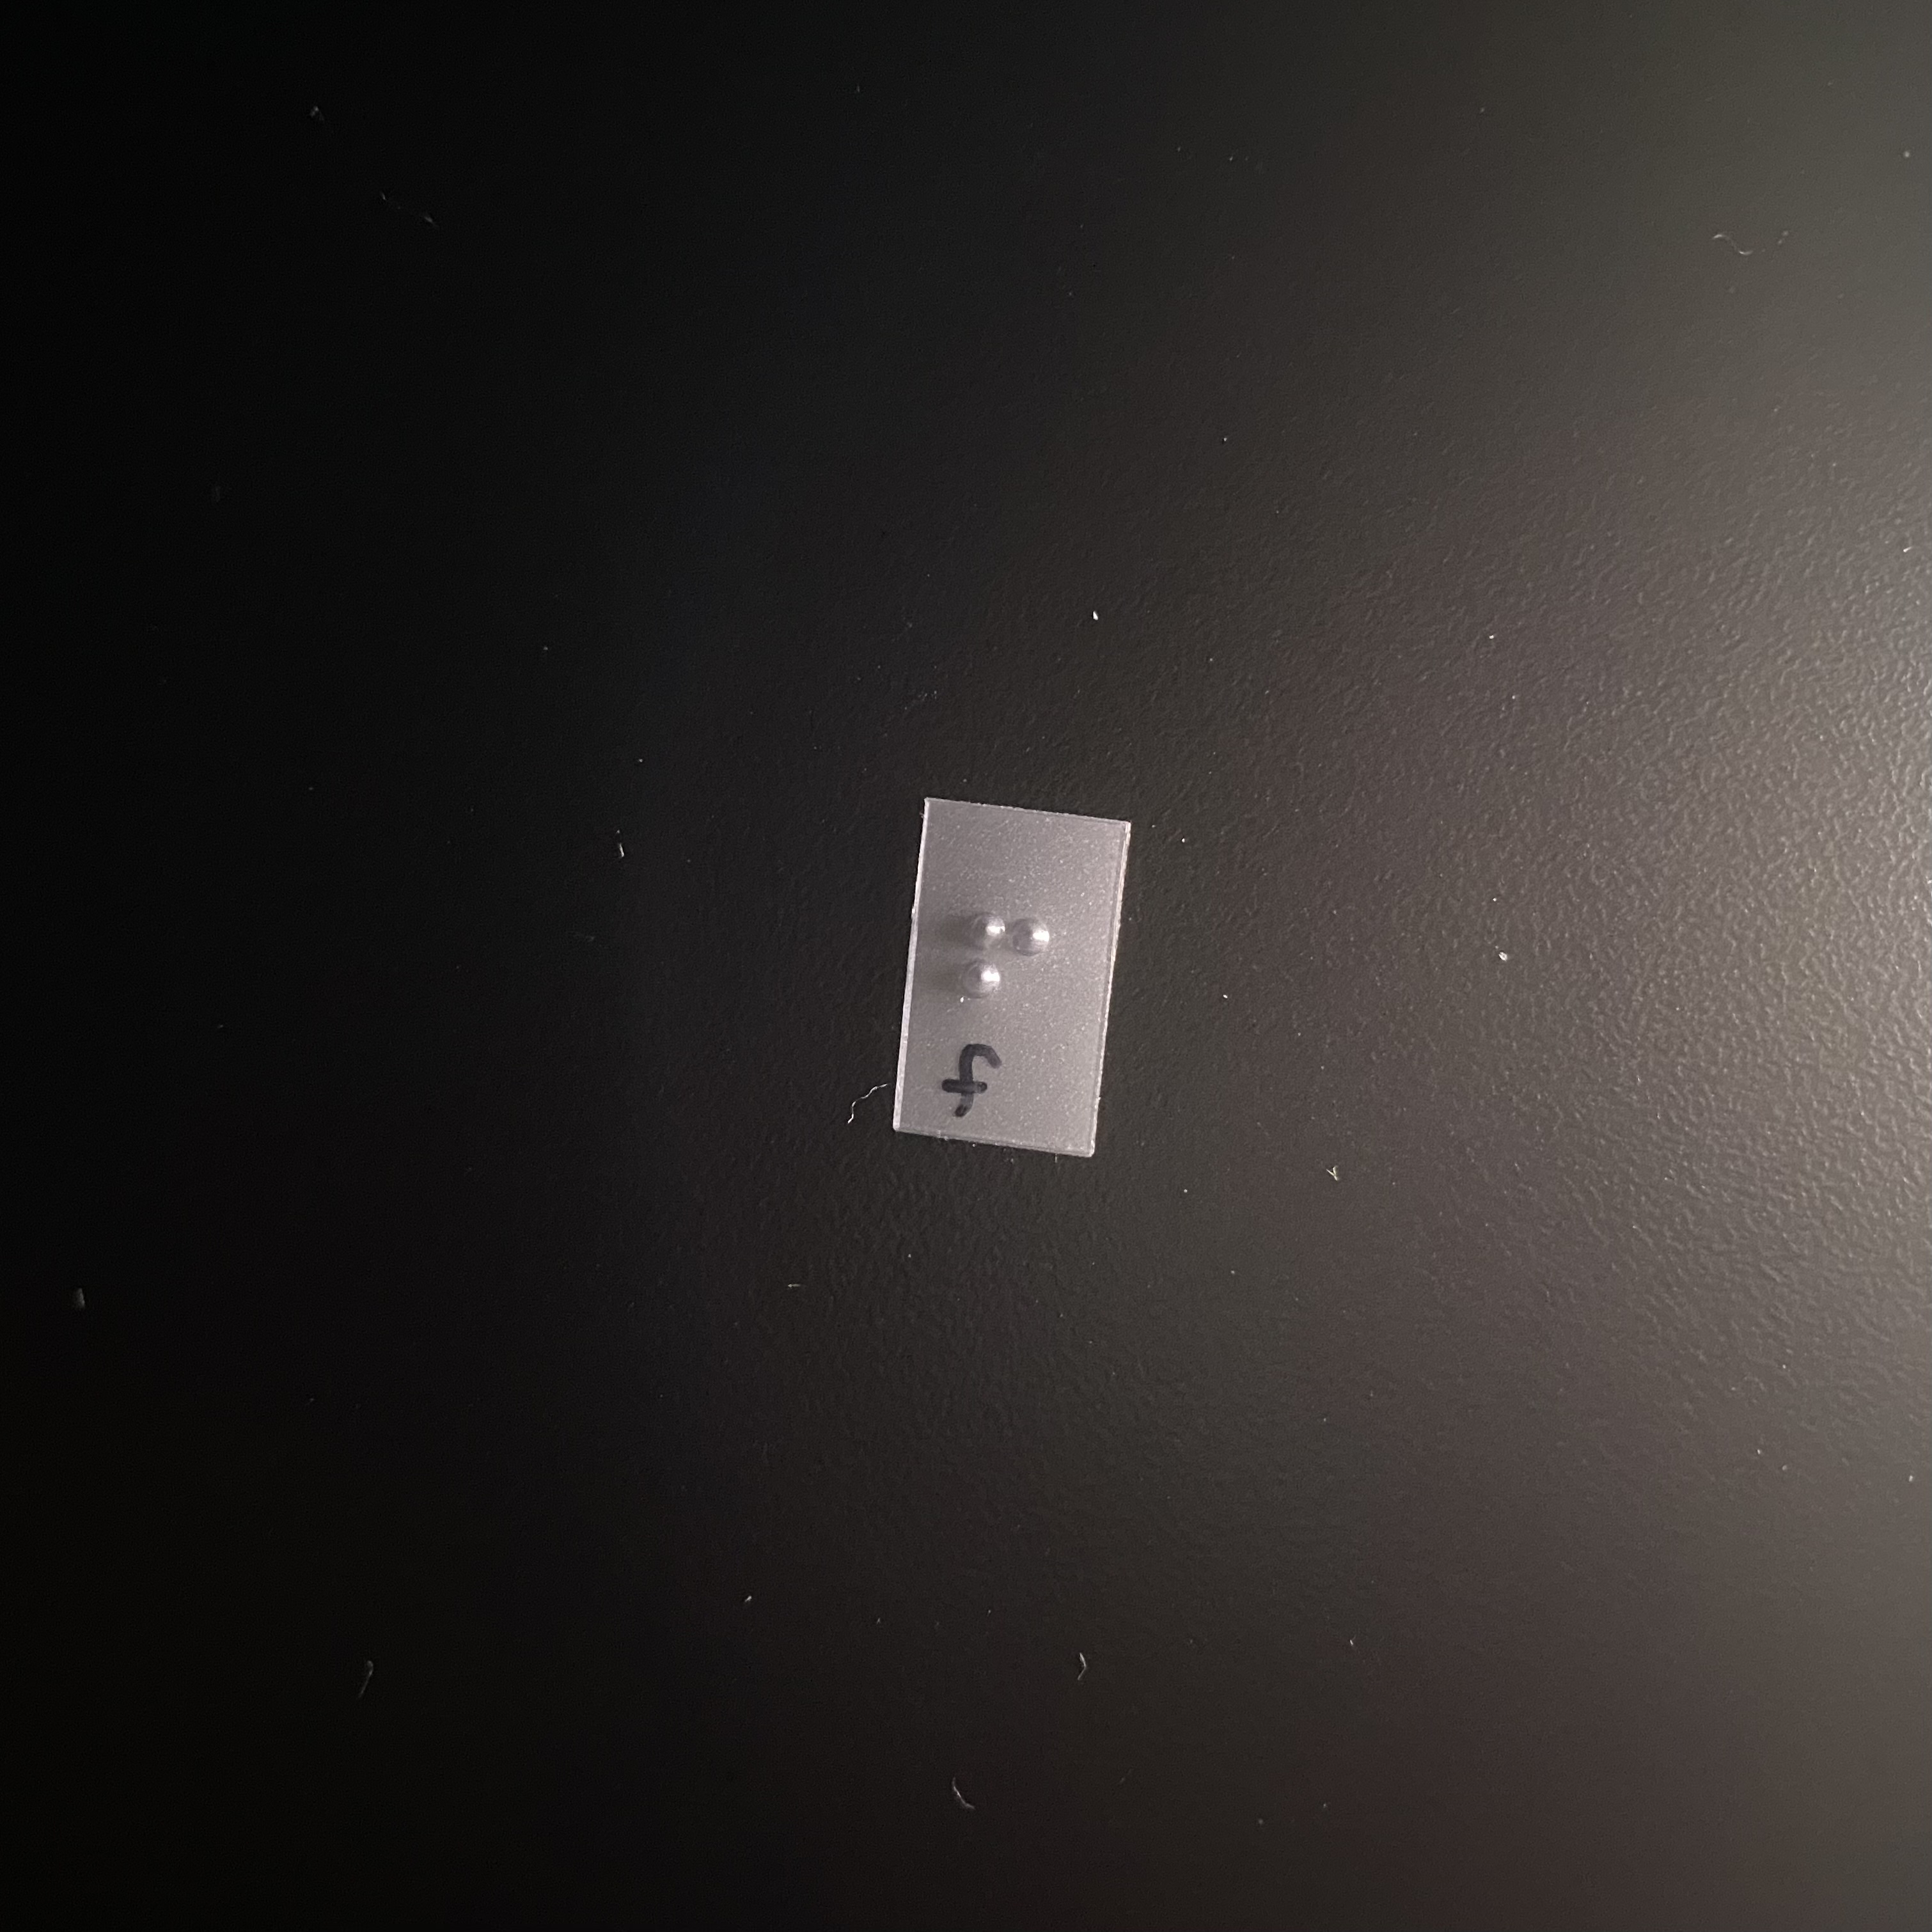f: (950, 891, 1063, 1086)
